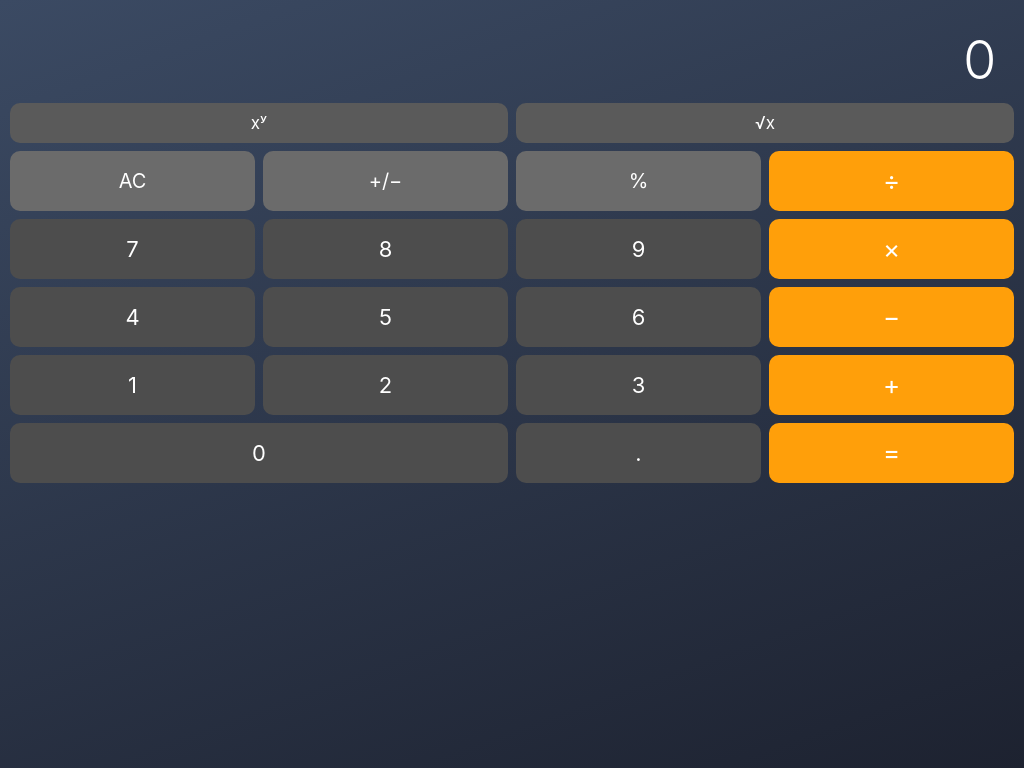
Test: Calculator › sends percent to the API as a unary operation
The image size is (1024, 768).
What coordinates should you click on to do the following:
click the button "5"
I would click on:
 (386, 317)
Its box is [263,287,508,347].
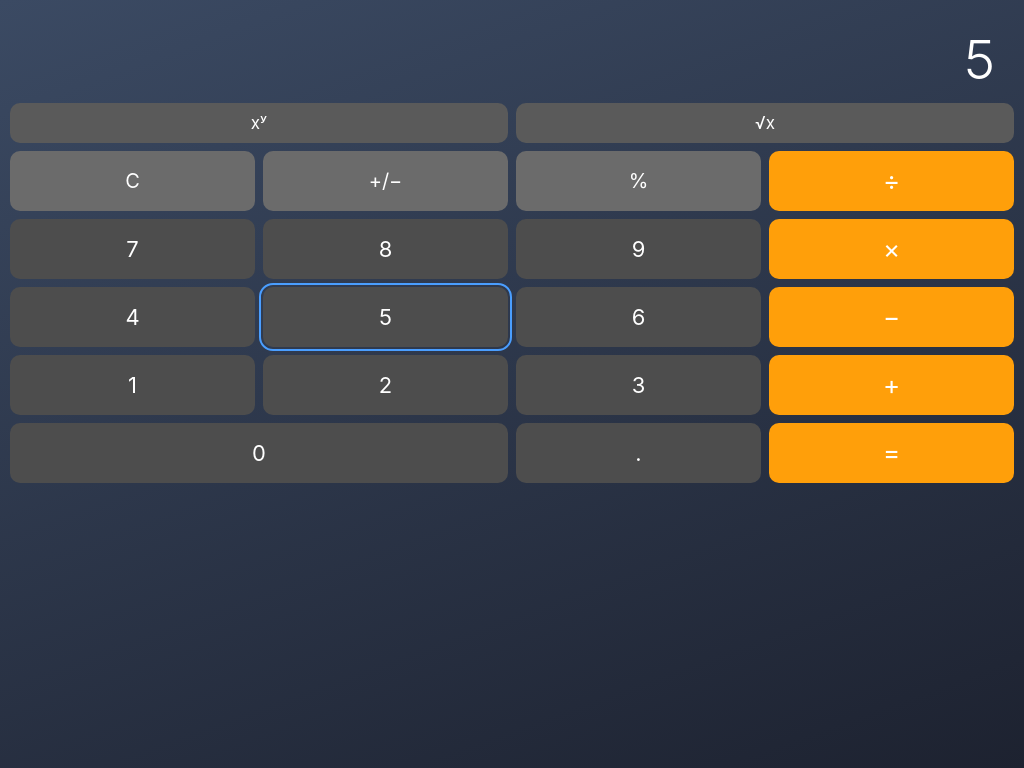
What coordinates should you click on to do the following:
click the button "0"
I would click on:
 (259, 453)
Its box is [10,423,508,483].
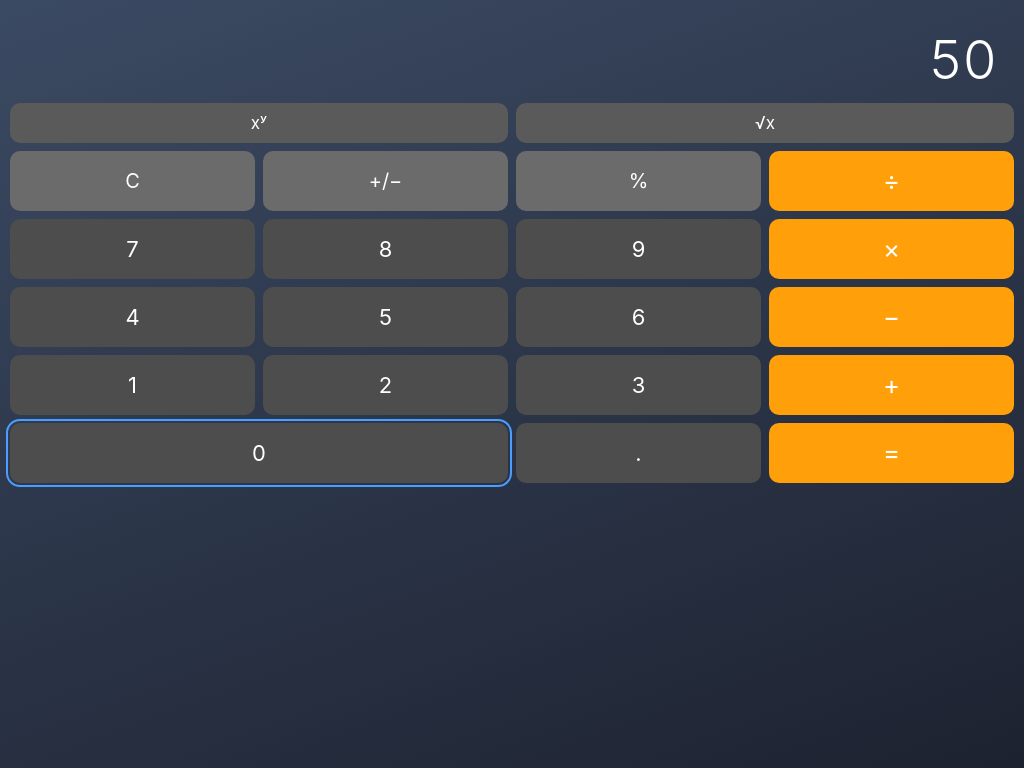
What coordinates should you click on to do the following:
click the button named "Percent"
I would click on:
 (638, 181)
Its box is [516,151,761,211].
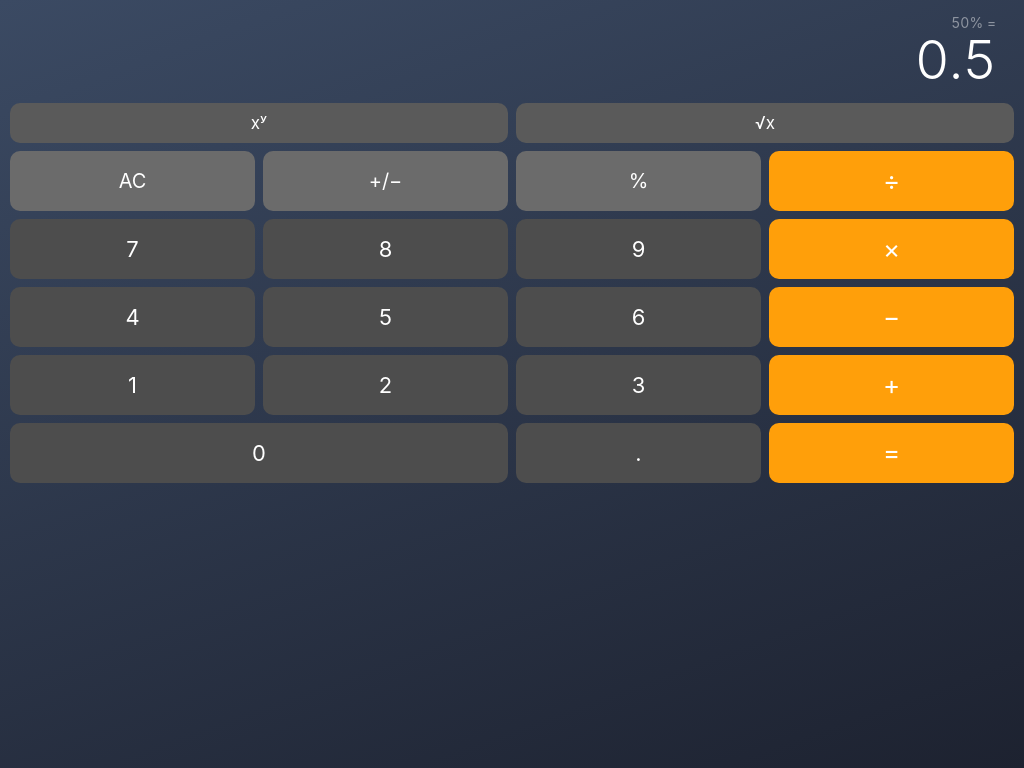
Check: the text with test id "display" reads "0.5", box [915,32,996,89]
